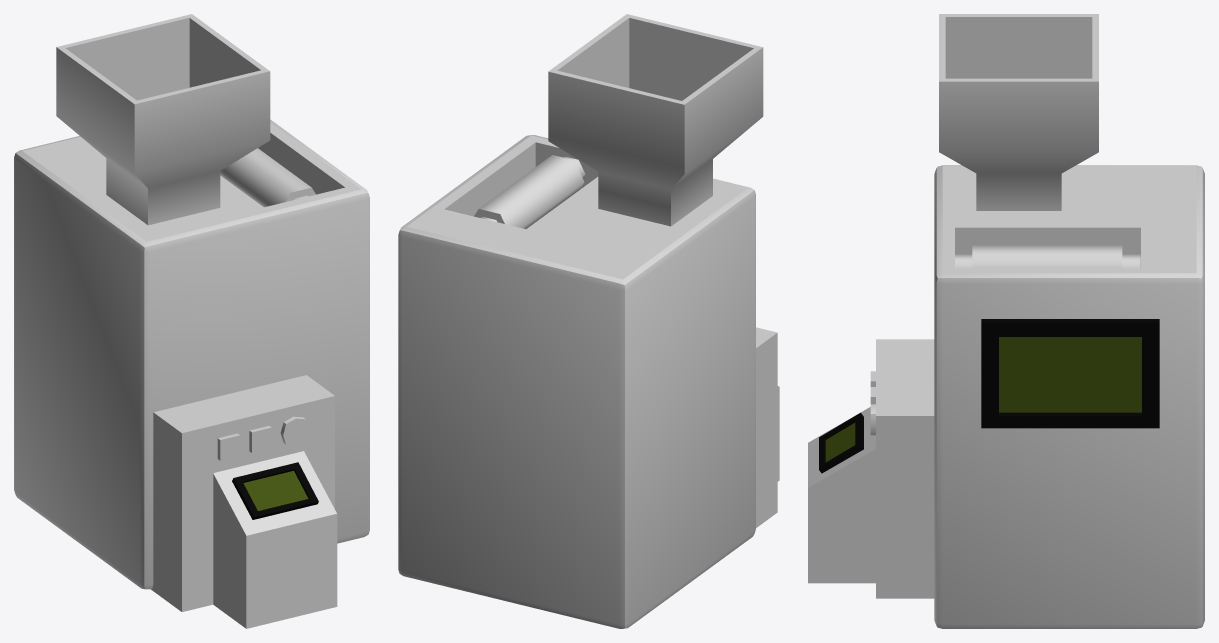
The model's file is Maquina 01.fbx.
3 views of the same model, side by side, from view 1: azimuth 30°, elevation 25°; view 2: azimuth 150°, elevation 25°; view 3: azimuth 270°, elevation 25° (orthographic). The views are drawn at different scales.
Parts seen in each view (by area): view 1: Box004, Box005, Box006, Box007, Box001, Cylinder001, Box003, Box022, Box002; view 2: Box004, Box005, Cylinder001, Box006; view 3: Box004, Box005, Box021, Box006, Box007, Cylinder001, Box001.
Boxes of the visible parts, left/top/right/bottom form: Box004: left=14, top=119, right=369, bottom=589; Box005: left=56, top=14, right=270, bottom=225; Box006: left=151, top=375, right=334, bottom=611; Box007: left=213, top=451, right=337, bottom=628; Box001: left=232, top=462, right=318, bottom=519; Cylinder001: left=220, top=148, right=315, bottom=207; Box003: left=280, top=416, right=308, bottom=445; Box022: left=217, top=433, right=240, bottom=460; Box002: left=249, top=426, right=271, bottom=452; Box004: left=398, top=135, right=755, bottom=628; Box005: left=548, top=14, right=763, bottom=226; Cylinder001: left=474, top=155, right=585, bottom=228; Box006: left=756, top=327, right=777, bottom=527; Box004: left=934, top=165, right=1204, bottom=628; Box005: left=939, top=14, right=1098, bottom=210; Box021: left=981, top=319, right=1159, bottom=428; Box006: left=876, top=339, right=934, bottom=598; Box007: left=808, top=407, right=875, bottom=583; Cylinder001: left=955, top=245, right=1140, bottom=268; Box001: left=819, top=412, right=863, bottom=473.
Size of the model in its own units: 111 by 214 by 154.
